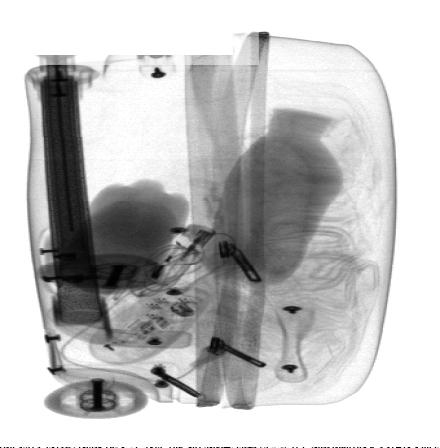Lighter: (145, 223, 215, 286)
